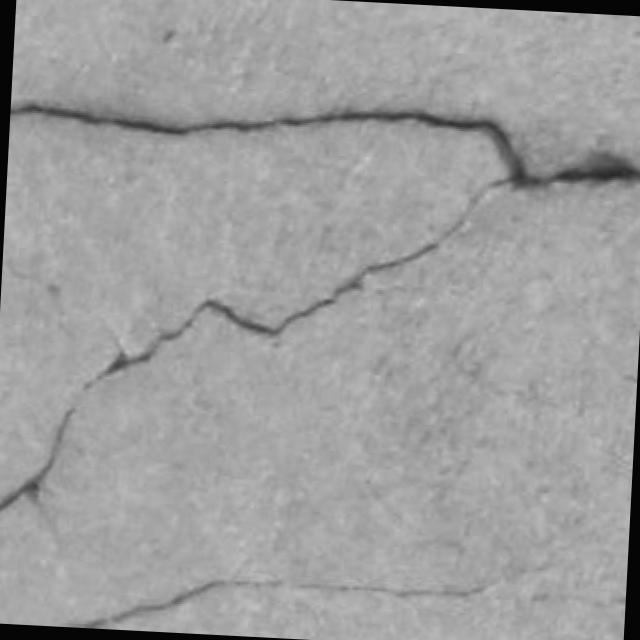crack: (0, 180, 508, 513), (106, 180, 508, 374), (10, 103, 639, 189), (10, 103, 529, 184), (68, 579, 490, 628), (0, 404, 76, 514), (0, 408, 74, 513)
